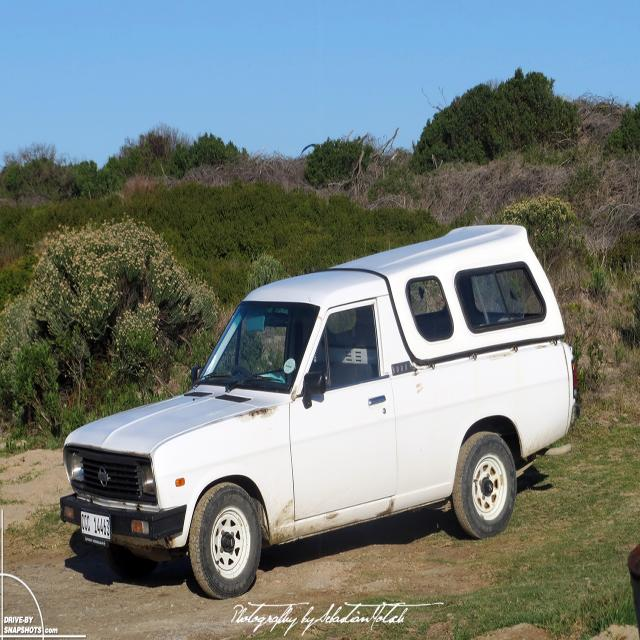Pickup Trucks: (59, 224, 578, 600)
